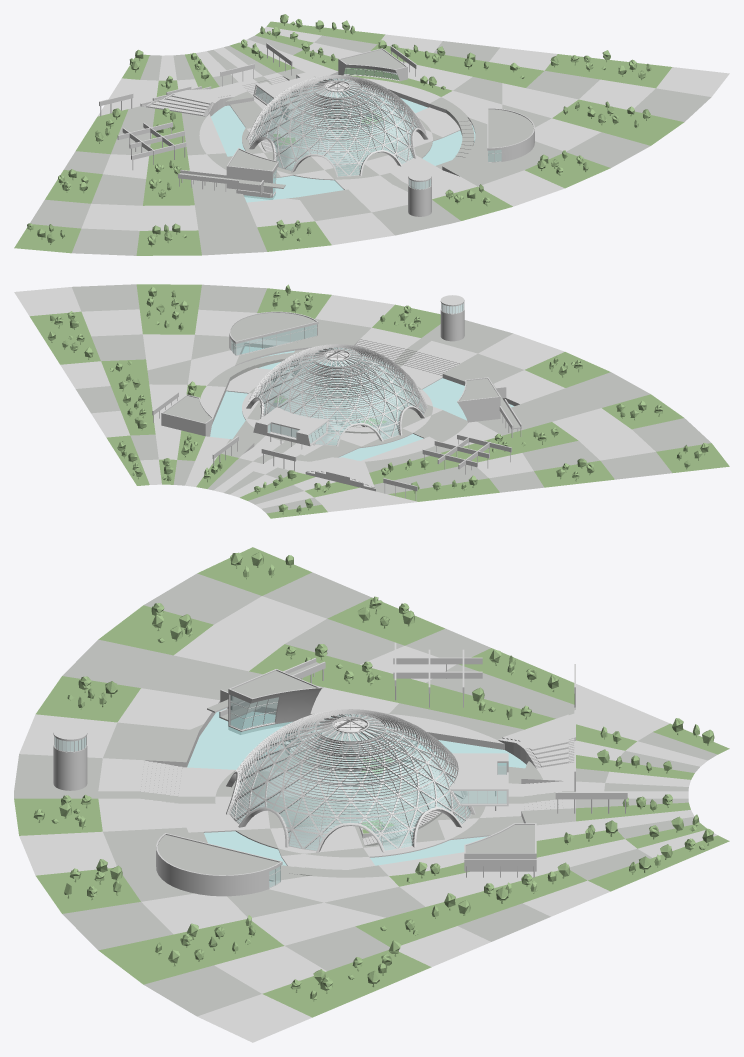
File: dome.glb
3 renders of one model, top to bottom at view 1: azimuth 30°, elevation 25°; view 2: azimuth 150°, elevation 25°; view 3: azimuth 270°, elevation 25°, orthographic. The views are drawn at different scales.
Visible parts, largest first — view 1: Shape4196; view 2: Shape4196; view 3: Shape4196.
Boxes of the visible parts, box(x1,y1,x2,y2) form: Shape4196: box(14, 14, 729, 255); Shape4196: box(14, 284, 729, 518); Shape4196: box(14, 547, 729, 1042).
Bounding box in the file's own units: 312 × 23.7 × 190.
